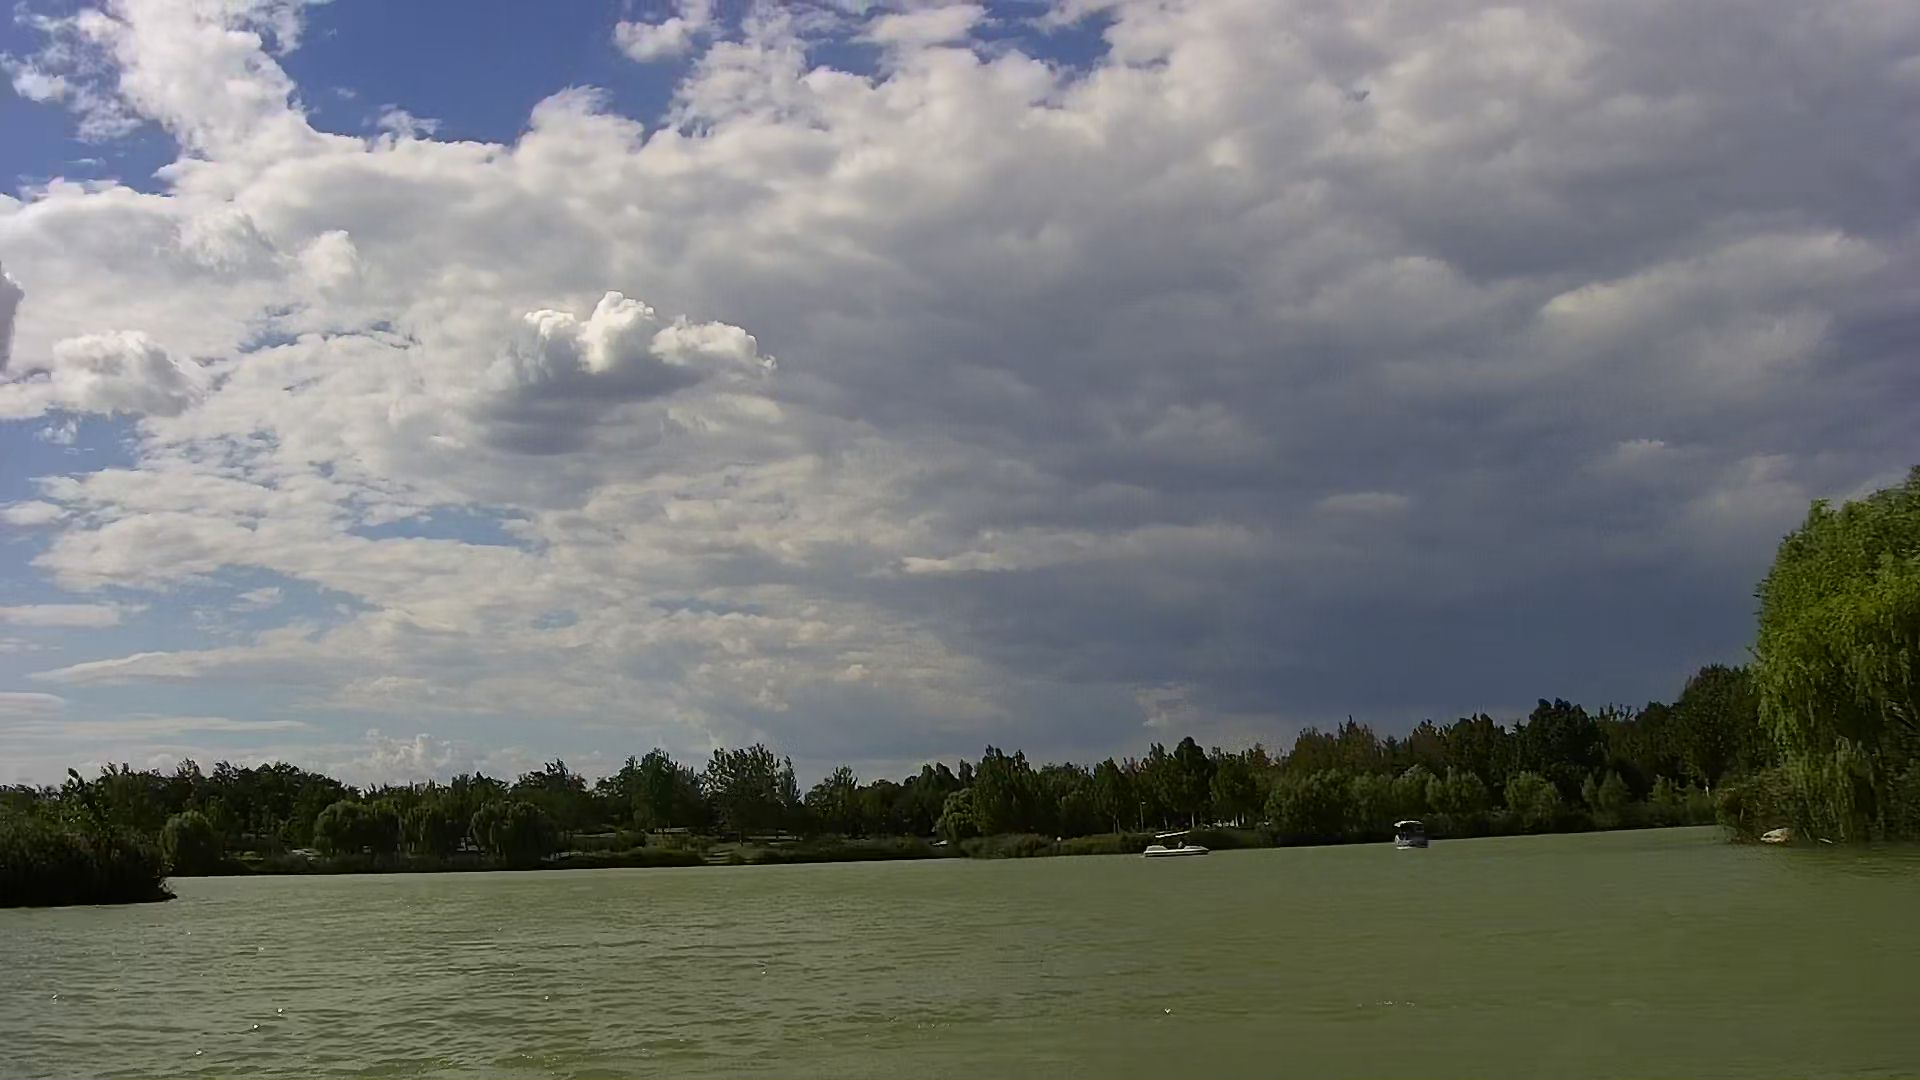boat: (1143, 825, 1211, 865), (1393, 816, 1431, 856)
rock: (1756, 825, 1792, 848)
